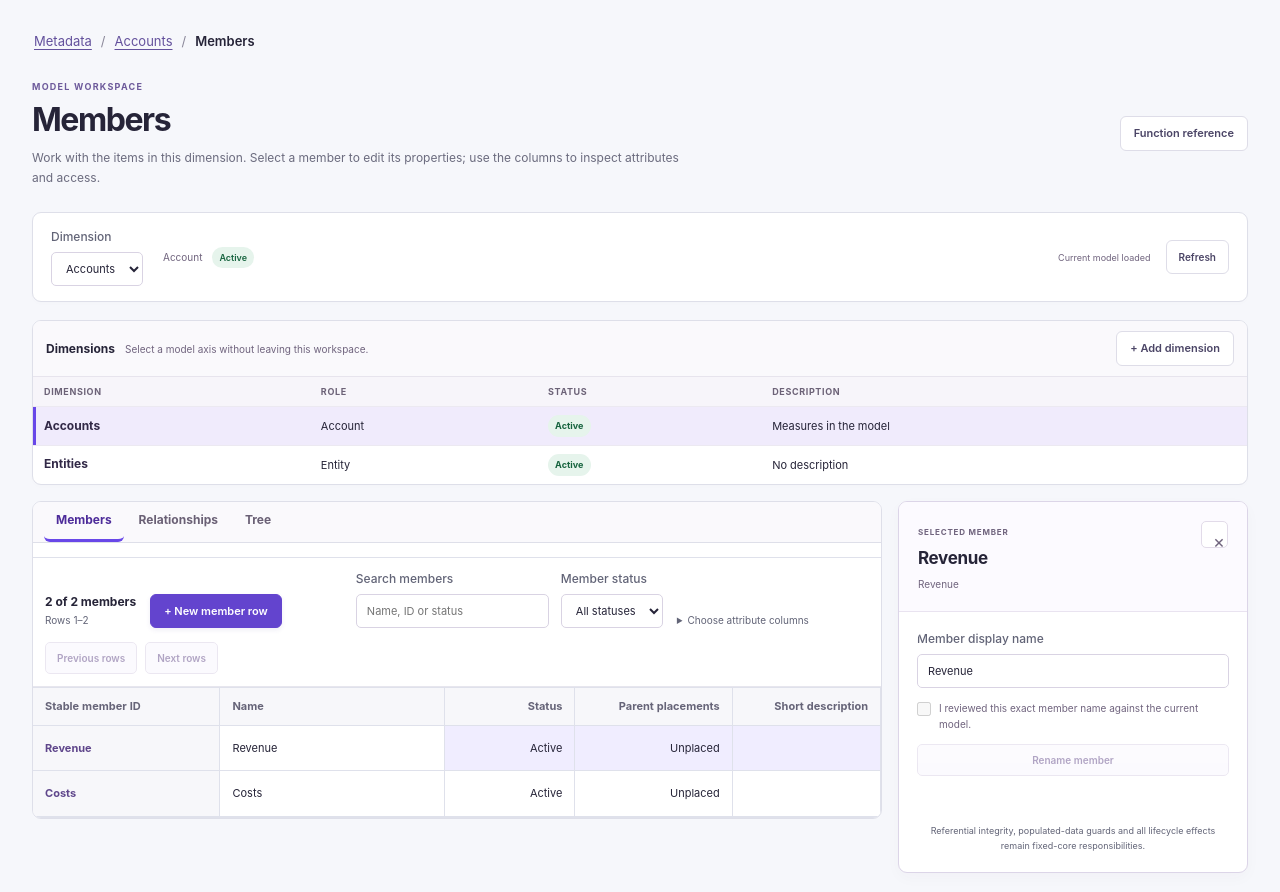
Test: retains a failed-refresh grid for orientation but makes its editor workarea inert
Expected: the field labelled "Member display name" holds "Revenue", 917,654 -> 1229,688
Click the button "Refresh": (1197, 257) 1166,240 -> 1229,274
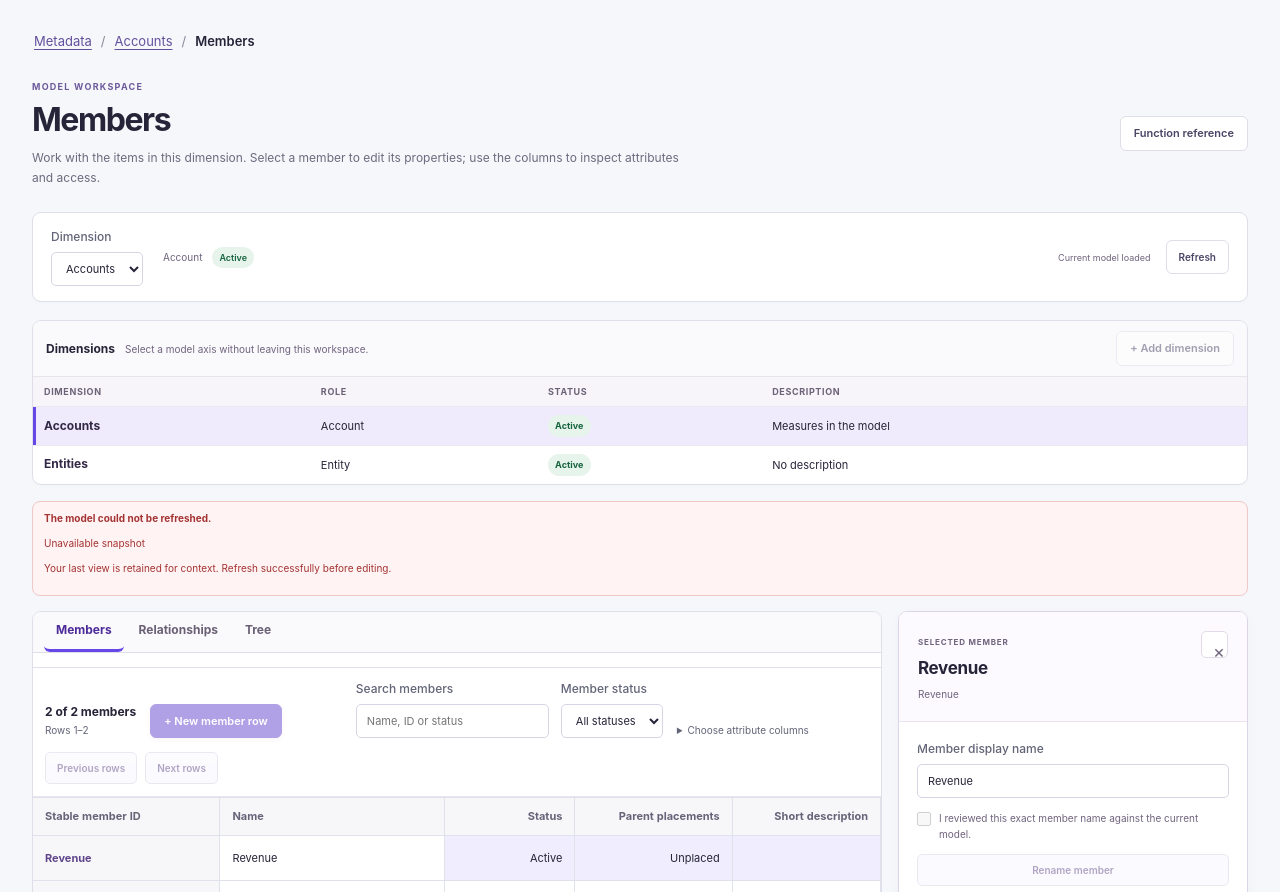
Expected: the field labelled "Member display name" holds "Revenue", 917,764 -> 1229,798
Result: the message shows "Unavailable snapshot" at 44,537 -> 145,549
Result: the button "+ New member row" is disabled at 150,704 -> 282,738
